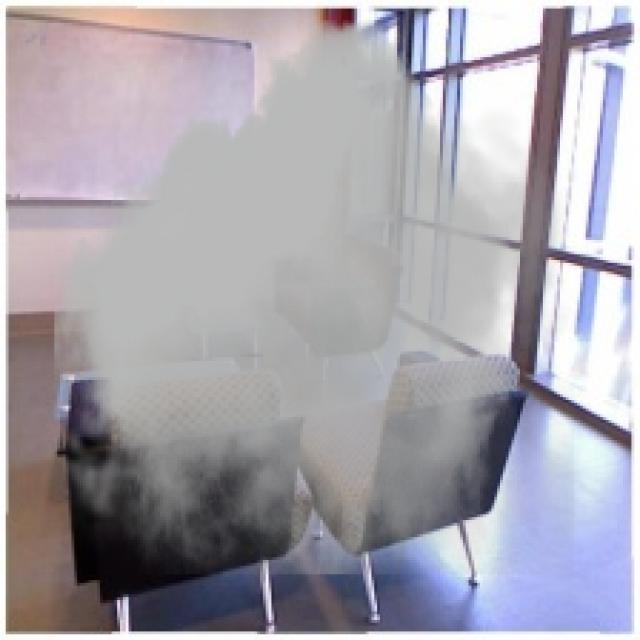Smoke: (46, 19, 574, 574)
